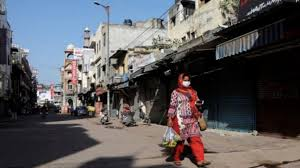mask: (180, 73, 193, 89)
